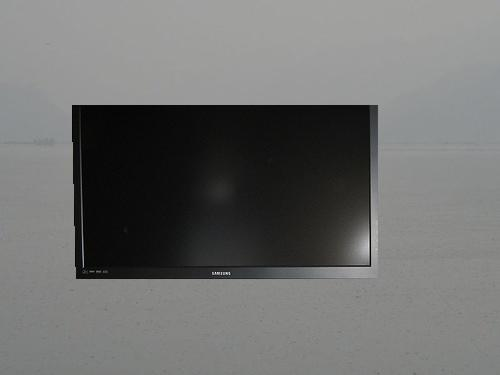tampered: (73, 106, 378, 279)
